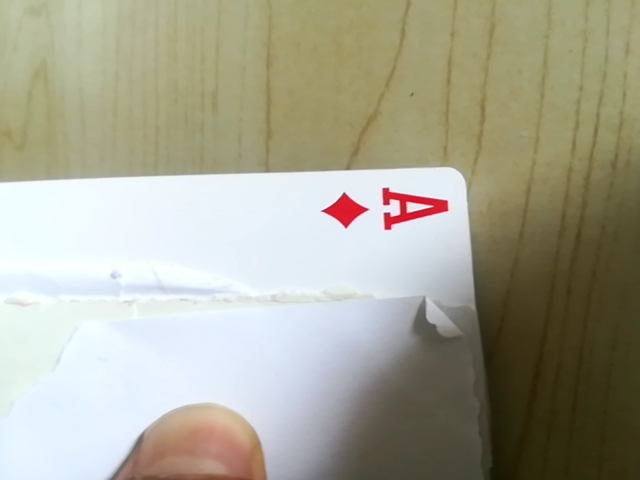fk a: (314, 177, 467, 242)
